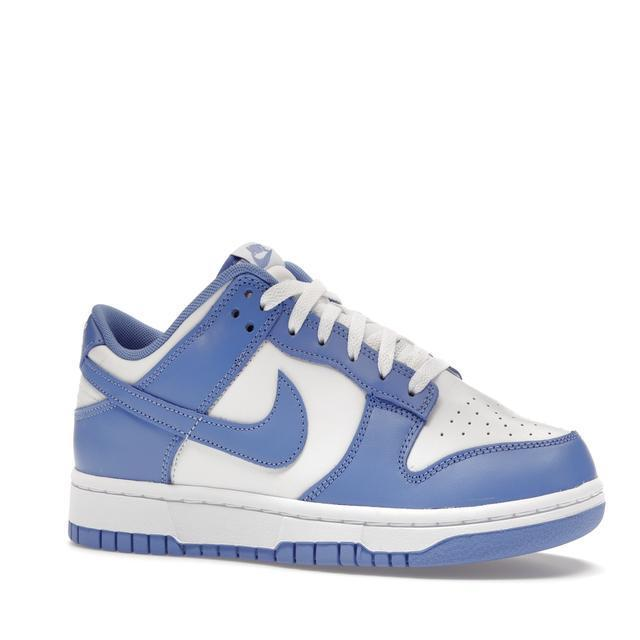J1_InsoleChar: (65, 240, 607, 571)
J1_StitchPattern: (228, 240, 572, 469), (65, 470, 606, 568), (232, 240, 456, 396), (65, 521, 411, 569), (438, 392, 560, 443)
